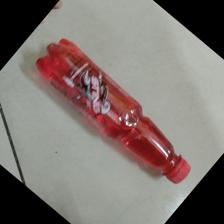Sting: (33, 36, 192, 184)
